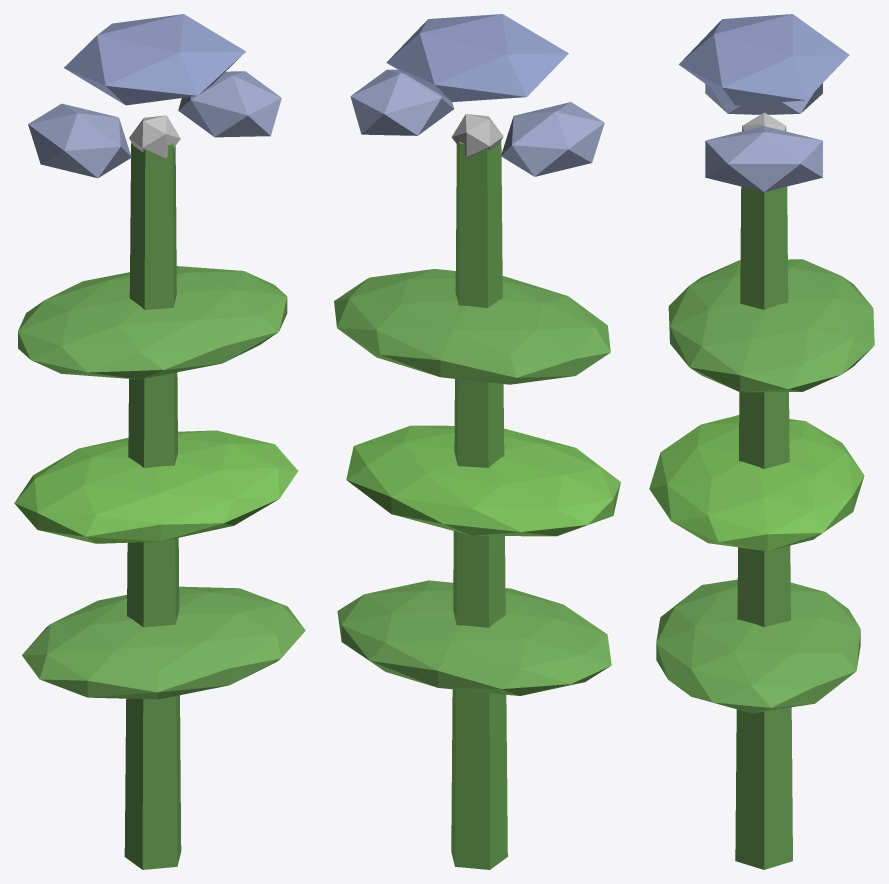
File: clitoria-ternatea.glb
The picture shows the model from 3 angles, left to right: view 1: azimuth 30°, elevation 25°; view 2: azimuth 150°, elevation 25°; view 3: azimuth 270°, elevation 25°; orthographic projection.
Visible parts, largest first — view 1: stem, leaf1, leaf0, leaf2, banner, wing-1, wing1, head; view 2: stem, leaf2, leaf1, leaf0, banner, wing-1, wing1, head; view 3: stem, leaf2, leaf1, leaf0, banner, wing1, wing-1, head.
Boxes of the visible parts, box(x1,y1,x2,y2) form: stem: box(124, 142, 181, 869); leaf1: box(14, 430, 297, 543); leaf0: box(22, 586, 305, 699); leaf2: box(18, 266, 287, 379); banner: box(64, 14, 245, 105); wing-1: box(28, 103, 131, 178); wing1: box(178, 71, 281, 137); head: box(129, 115, 180, 158); stem: box(451, 141, 507, 869); leaf2: box(334, 269, 610, 384); leaf1: box(346, 425, 620, 536); leaf0: box(337, 580, 611, 695); banner: box(386, 14, 568, 101); wing-1: box(501, 102, 604, 176); wing1: box(350, 69, 454, 135); head: box(451, 114, 503, 157); stem: box(735, 186, 792, 869); leaf2: box(668, 259, 874, 392); leaf1: box(649, 415, 864, 551); leaf0: box(656, 579, 860, 713); banner: box(679, 14, 849, 105); wing1: box(705, 126, 822, 191); wing-1: box(705, 83, 822, 114); head: box(742, 112, 786, 131).
Bounding box in the file's own units: 0.1411 × 0.4195 × 0.1042.
